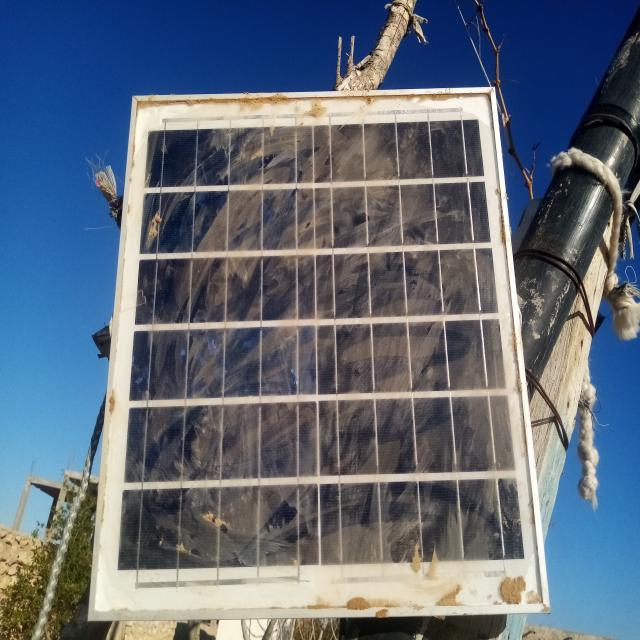faulty: (89, 88, 548, 619)
